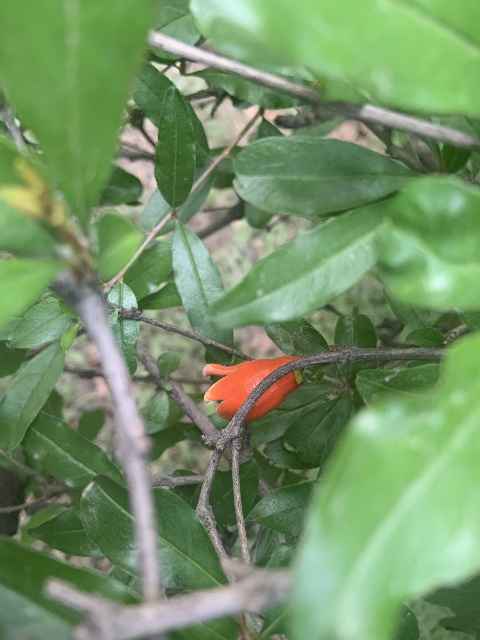flower: (202, 356, 304, 422)
